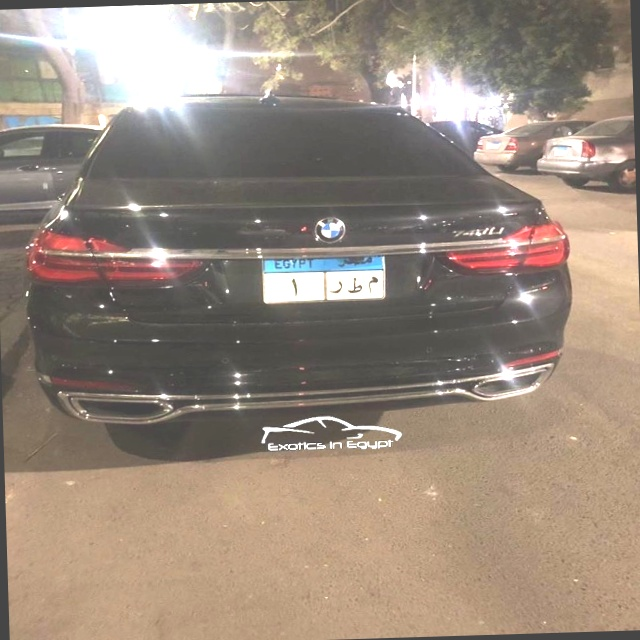License Plate: (258, 250, 388, 306)
